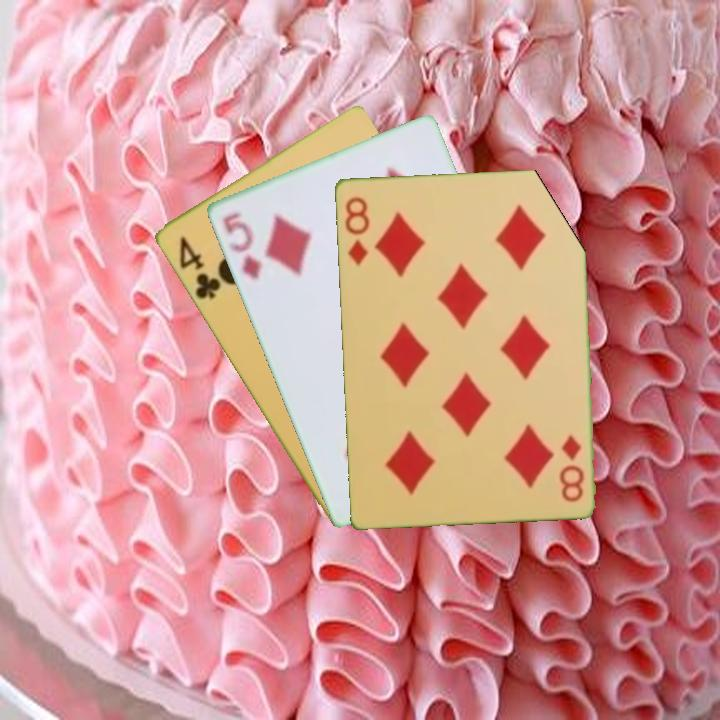4c: (174, 233, 224, 302)
5d: (219, 208, 265, 282)
8d: (341, 192, 372, 268), (557, 431, 586, 505)
